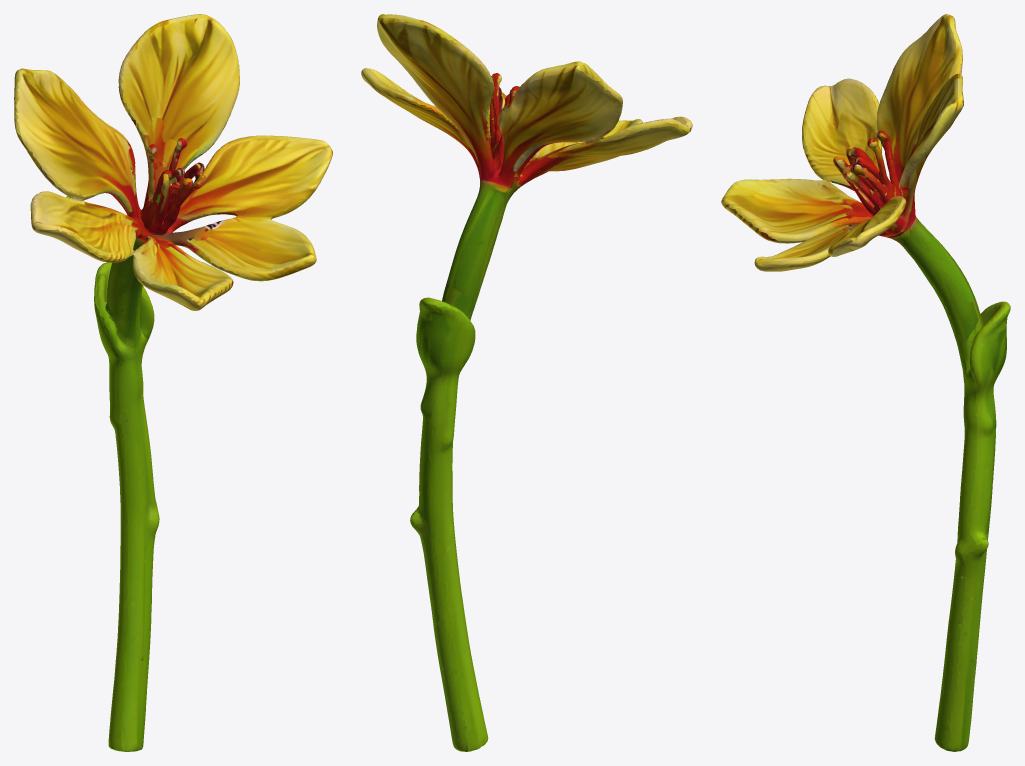
File: StJohnsWort.fbx
The picture shows the model from 3 angles, left to right: view 1: azimuth 30°, elevation 25°; view 2: azimuth 150°, elevation 25°; view 3: azimuth 270°, elevation 25°; orthographic projection. The views are drawn at different scales.
Visible parts, largest first — view 1: textured_mesh; view 2: textured_mesh; view 3: textured_mesh.
Part boxes in pixels (x1,y1,x2,y2): textured_mesh: [14, 14, 332, 751]; textured_mesh: [361, 14, 692, 751]; textured_mesh: [721, 14, 1010, 751].
Size of the model in its own units: 90.82 by 199 by 75.68.
1 material, 1 textured.
